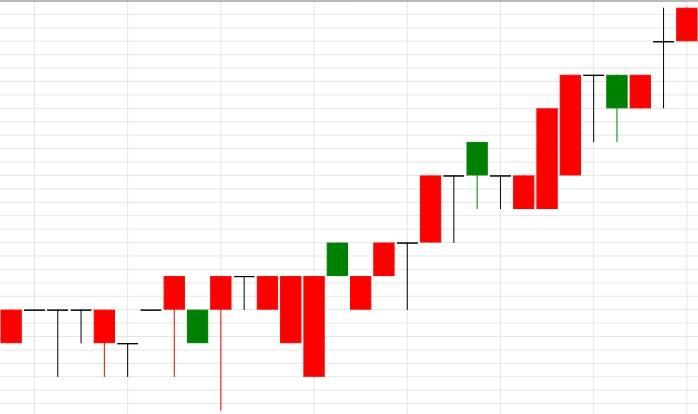evening_star_fall: (512, 74, 628, 209)
hanging_man_fall: (116, 275, 186, 377)
